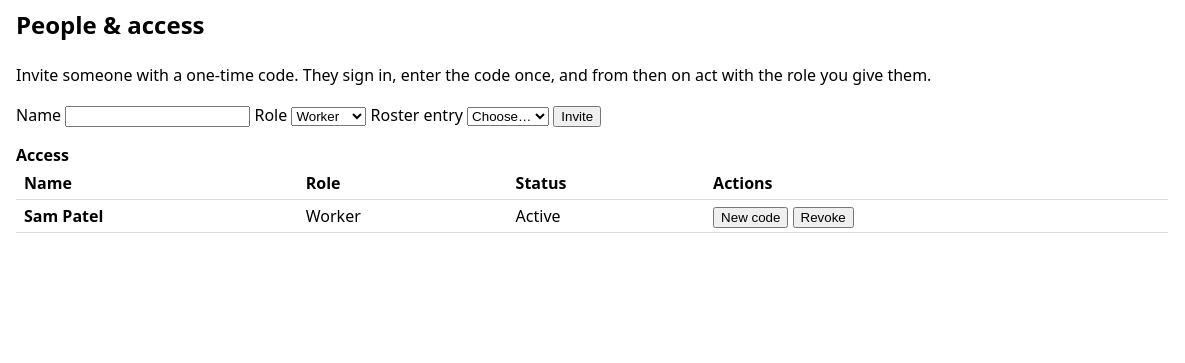
Test: Access › invites a worker as a roster entry without access and shows the code once
Later steps or results of the test are not shown.
expect the row "Sam Patel Worker Active New code Revoke" is shown: met, box [16, 199, 1168, 232]
Type "Jo Okafor" into the field labelled "Name" at (158, 116), box [65, 106, 250, 127]
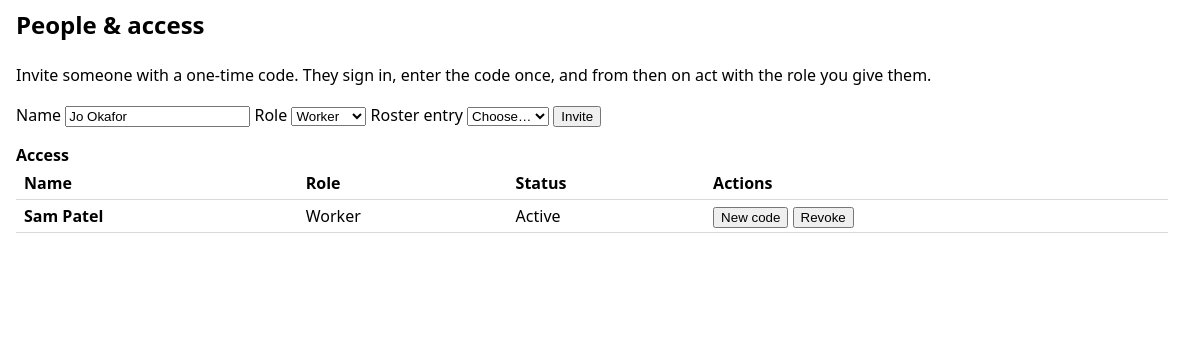
Select "Jo Okafor" in the dropdown labelled "Roster entry" at (508, 116), box [467, 107, 549, 126]
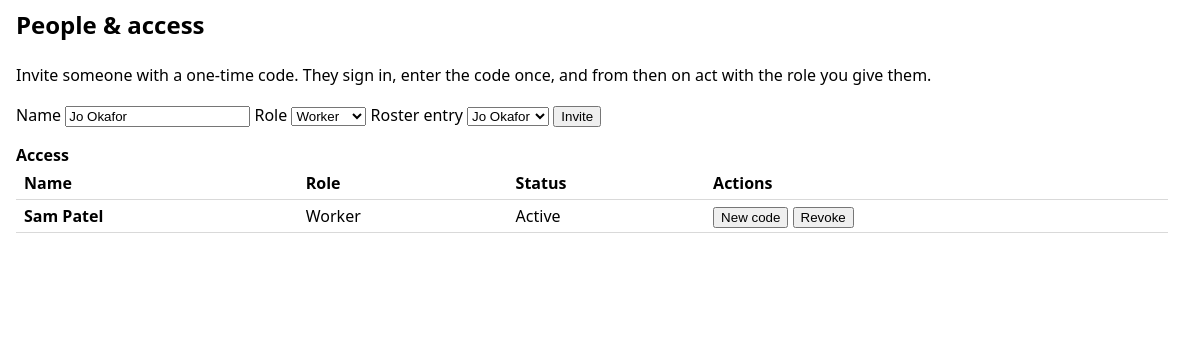
Click the button "Invite" at (577, 116), box [553, 106, 601, 127]
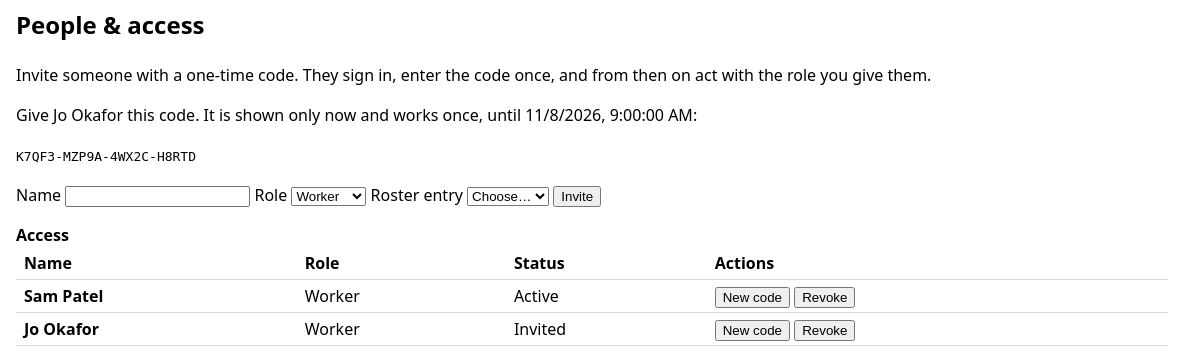
expect the element named "New invite" shows "K7QF3-MZP9A-4WX2C-H8RTD": met, box [16, 149, 196, 164]
expect the row "Jo Okafor Worker Invited New code Revoke" is shown: met, box [16, 312, 1168, 345]
